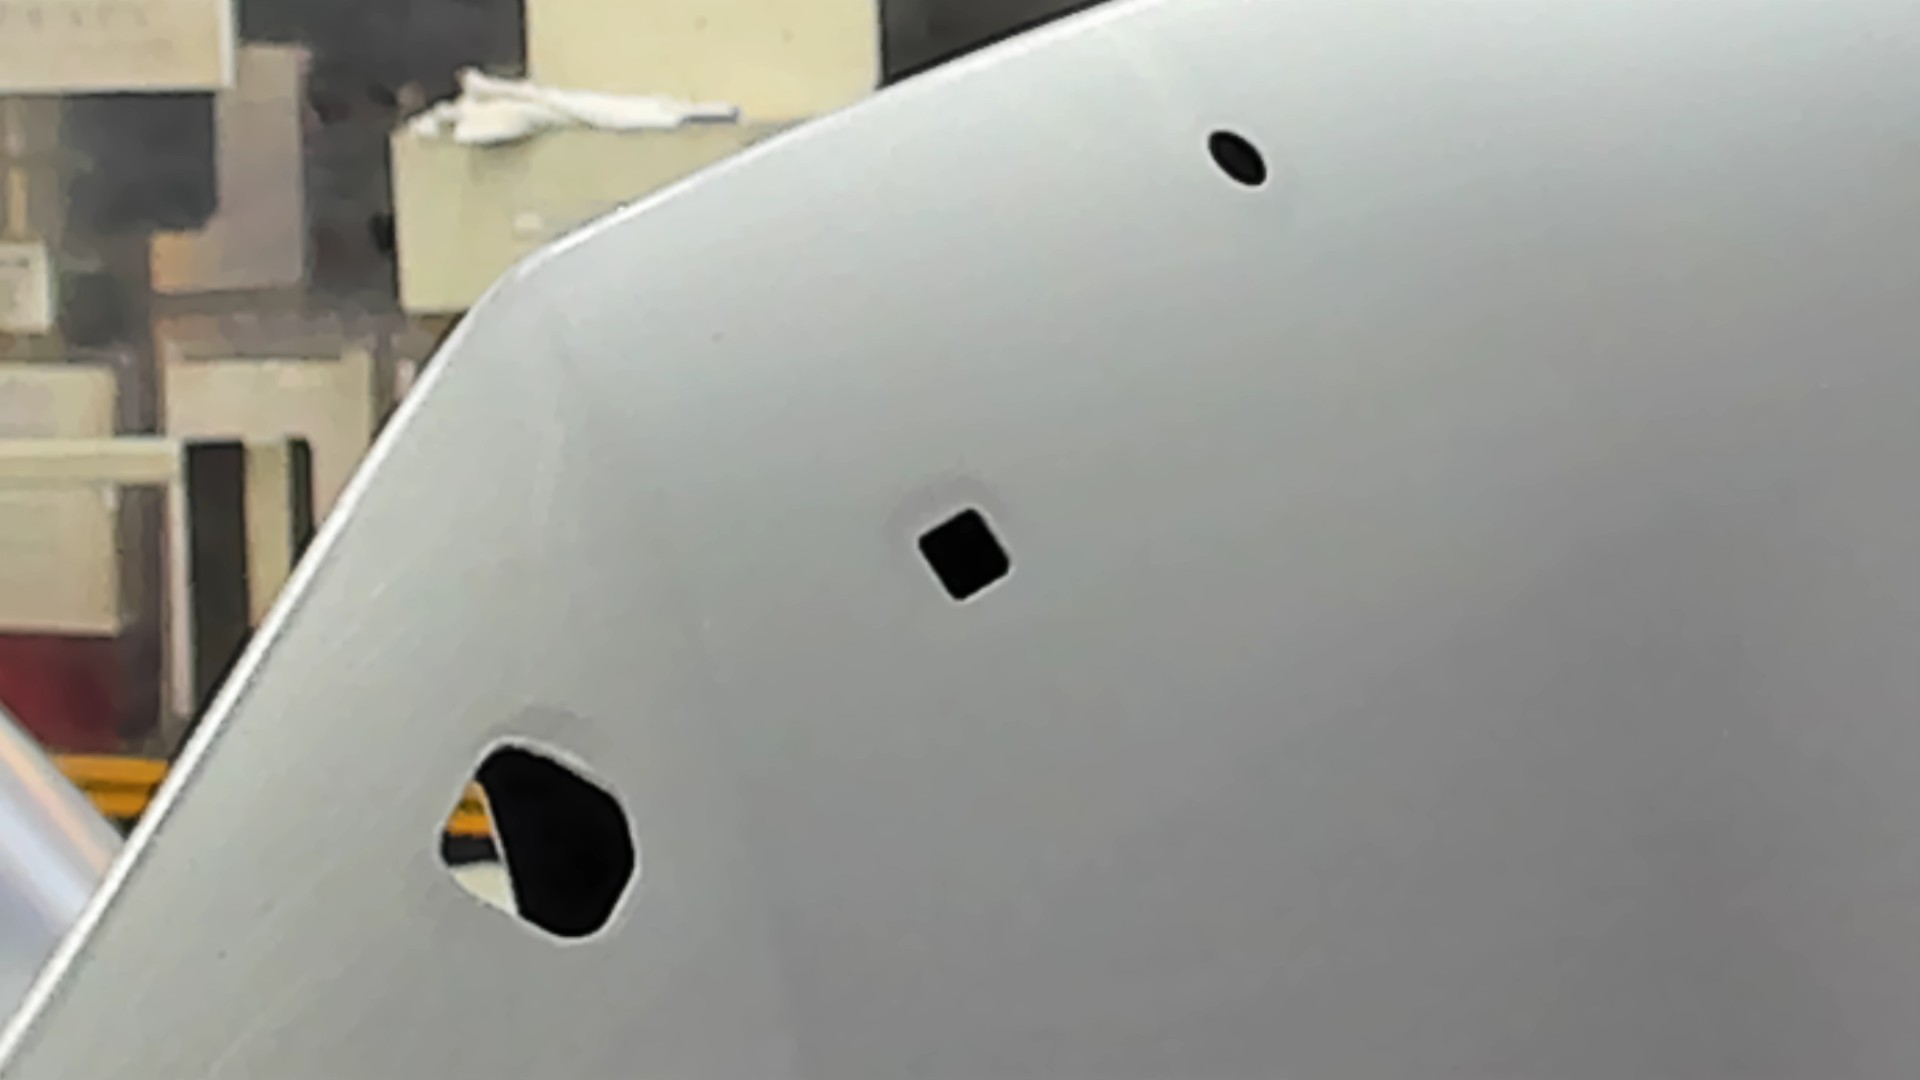chico: (1204, 124, 1271, 191)
grande: (429, 738, 646, 949)
mediano: (914, 501, 1019, 609)
